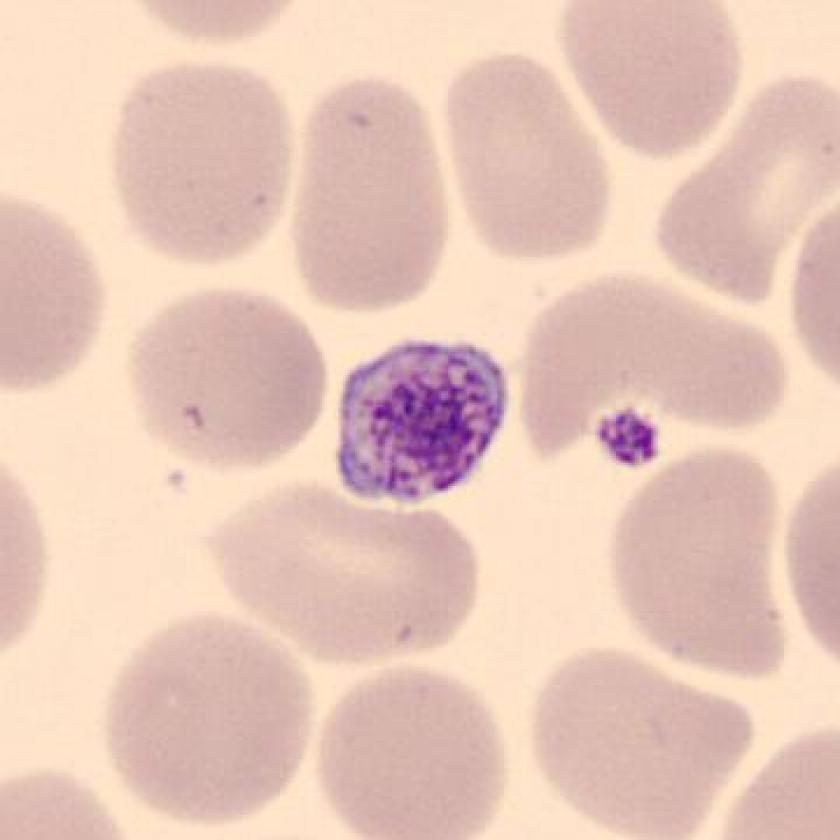platelets: (319, 325, 522, 526), (591, 390, 673, 482)
